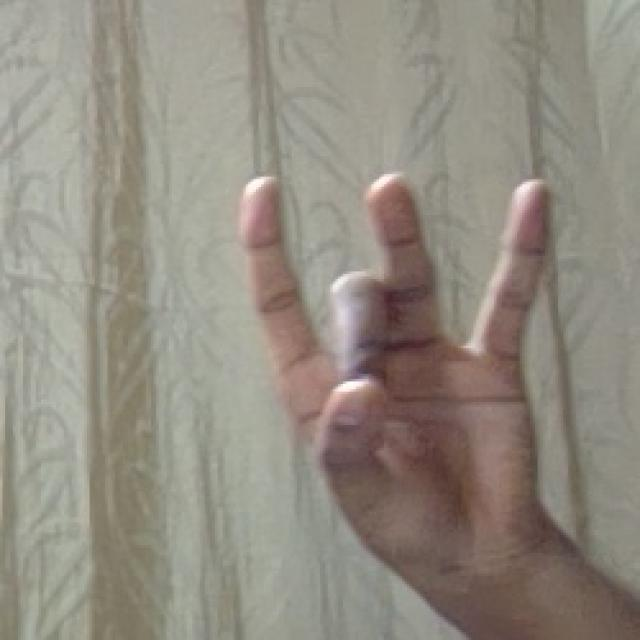Numeric-8: (244, 157, 559, 552)
